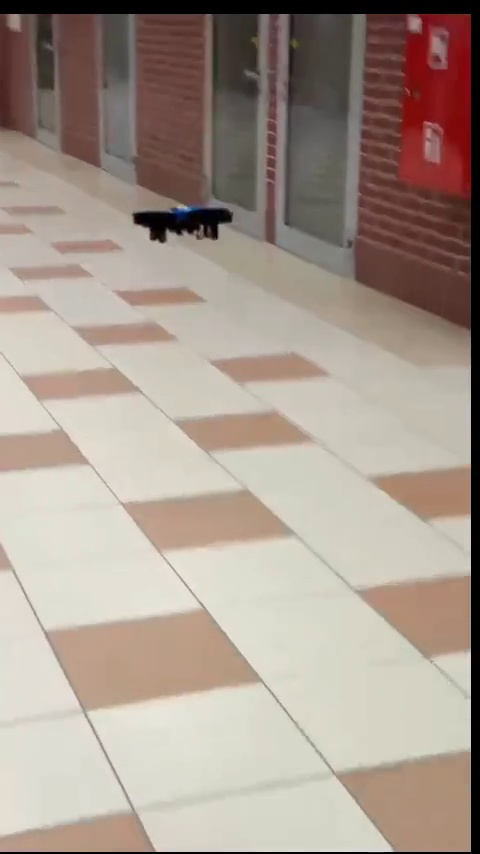drone: (134, 199, 236, 246)
